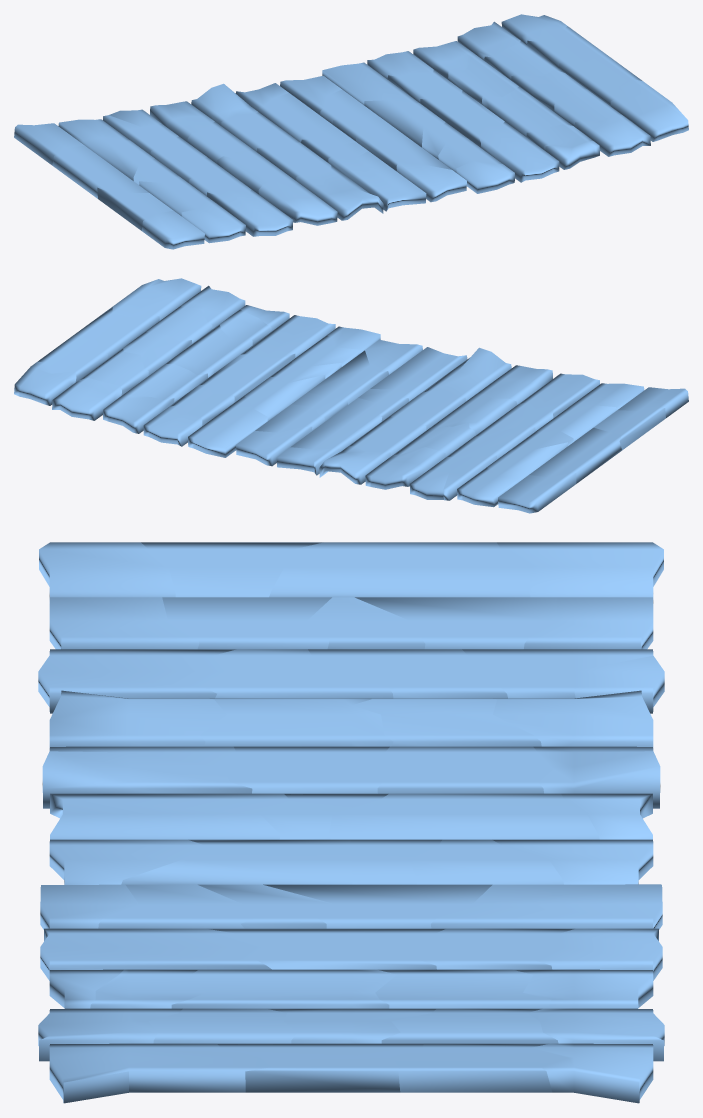
The model's file is Bridge_Broken.fbx.
3 views of the same model, one above another, from view 1: azimuth 30°, elevation 25°; view 2: azimuth 150°, elevation 25°; view 3: azimuth 270°, elevation 25° (orthographic). The views are drawn at different scales.
Parts seen in each view (by area): view 1: polySurface71, polySurface41, polySurface56, polySurface15, polySurface42, polySurface36, polySurface23, polySurface61, polySurface59, polySurface28, polySurface49, polySurface75 (+42 smaller); view 2: polySurface49, polySurface15, polySurface42, polySurface41, polySurface56, polySurface71, polySurface61, polySurface59, polySurface36, polySurface75, polySurface13, polySurface29 (+42 smaller); view 3: polySurface15, polySurface42, polySurface41, polySurface36, polySurface49, polySurface56, polySurface71, polySurface23, polySurface48, polySurface28, polySurface35, polySurface38 (+43 smaller).
Boxes of the visible parts, x1=… form: polySurface71: x1=610, y1=79, x2=688, y2=141; polySurface41: x1=328, y1=151, x2=426, y2=211; polySurface56: x1=478, y1=122, x2=559, y2=182; polySurface15: x1=52, y1=146, x2=148, y2=198; polySurface42: x1=258, y1=93, x2=356, y2=145; polySurface36: x1=296, y1=165, x2=383, y2=220; polySurface23: x1=207, y1=189, x2=293, y2=236; polySurface61: x1=482, y1=86, x2=572, y2=136; polySurface59: x1=420, y1=91, x2=504, y2=147; polySurface28: x1=258, y1=180, x2=337, y2=225; polySurface49: x1=322, y1=62, x2=418, y2=104; polySurface75: x1=559, y1=53, x2=642, y2=106; polySurface49: x1=188, y1=396, x2=267, y2=457; polySurface15: x1=529, y1=427, x2=622, y2=483; polySurface42: x1=290, y1=398, x2=382, y2=452; polySurface41: x1=370, y1=347, x2=467, y2=401; polySurface56: x1=240, y1=315, x2=335, y2=360; polySurface71: x1=112, y1=278, x2=201, y2=320; polySurface61: x1=165, y1=324, x2=252, y2=377; polySurface59: x1=198, y1=354, x2=295, y2=402; polySurface36: x1=421, y1=347, x2=511, y2=401; polySurface75: x1=75, y1=306, x2=159, y2=358; polySurface13: x1=498, y1=473, x2=576, y2=513; polySurface29: x1=365, y1=447, x2=445, y2=489; polySurface15: x1=269, y1=542, x2=530, y2=597; polySurface42: x1=328, y1=793, x2=599, y2=839; polySurface41: x1=50, y1=793, x2=289, y2=839; polySurface36: x1=42, y1=746, x2=252, y2=808; polySurface49: x1=431, y1=884, x2=662, y2=929; polySurface56: x1=40, y1=928, x2=271, y2=980; polySurface71: x1=49, y1=1043, x2=270, y2=1102; polySurface23: x1=38, y1=649, x2=236, y2=713; polySurface48: x1=121, y1=839, x2=352, y2=884; polySurface28: x1=49, y1=690, x2=226, y2=747; polySurface35: x1=200, y1=698, x2=393, y2=746; polySurface38: x1=372, y1=746, x2=550, y2=793.
Bounding box in the file's own units: 694 × 38.44 × 356.
